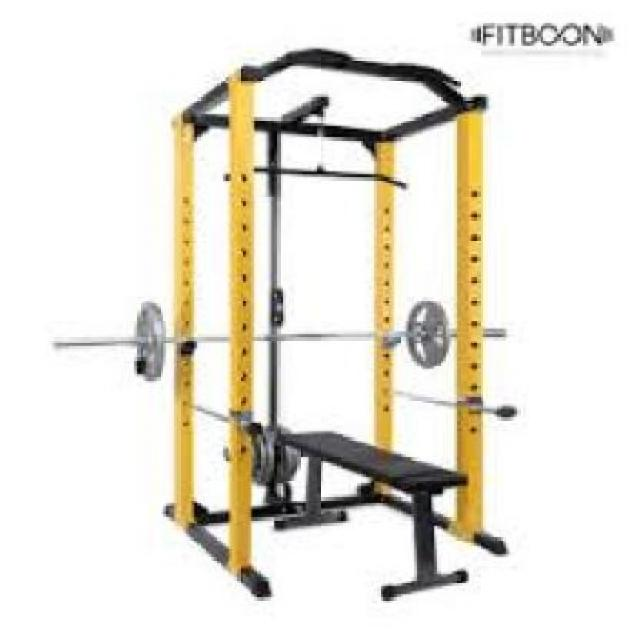smith machine: (54, 49, 518, 602)
